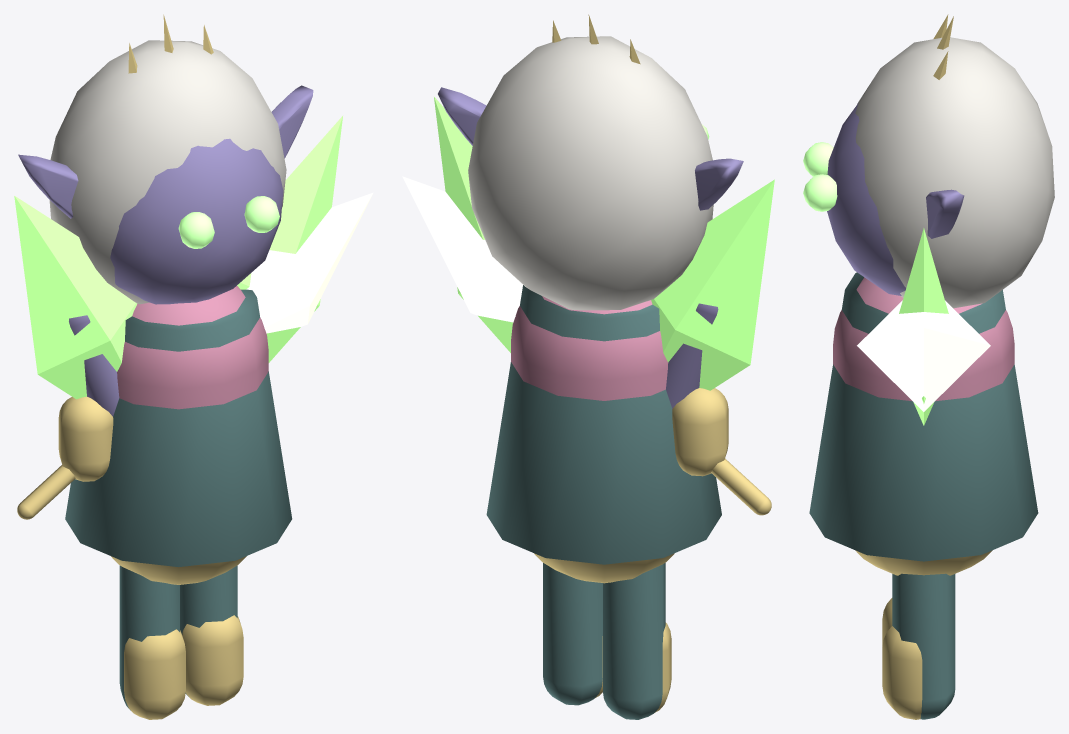
File: elf.glb
The picture shows the model from 3 angles, left to right: view 1: azimuth 30°, elevation 25°; view 2: azimuth 150°, elevation 25°; view 3: azimuth 270°, elevation 25°; orthographic projection. The views are drawn at different scales.
Bounding box in the file's own units: 2.12 × 3.84 × 1.28.
